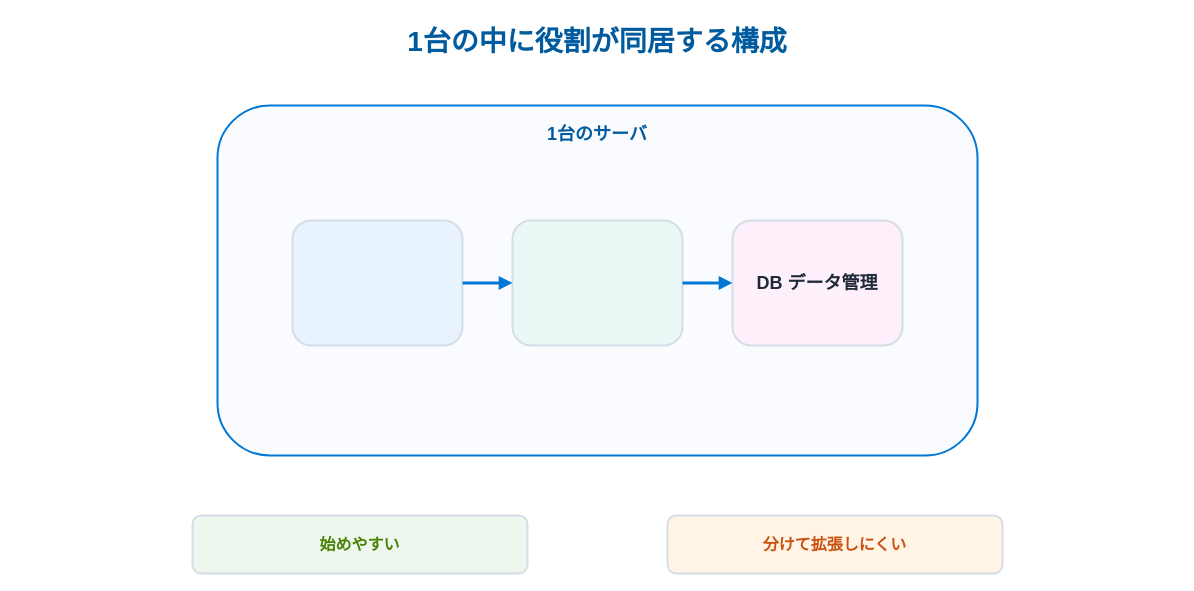
The diagram is 1194 pixels wide and 591 high, and some of its shapes have lost their labels. The centre of each missing label's shape, as x and y in pixels:
"AP 業務処理" goes at point 597,282.
"Web 入口 / 静的配信" goes at point 377,282.
